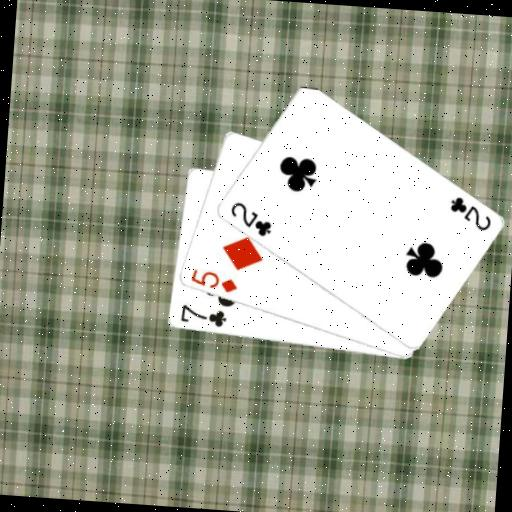2C: (225, 198, 274, 240), (445, 194, 494, 234)
5D: (187, 266, 240, 296)
7C: (176, 302, 228, 330)
